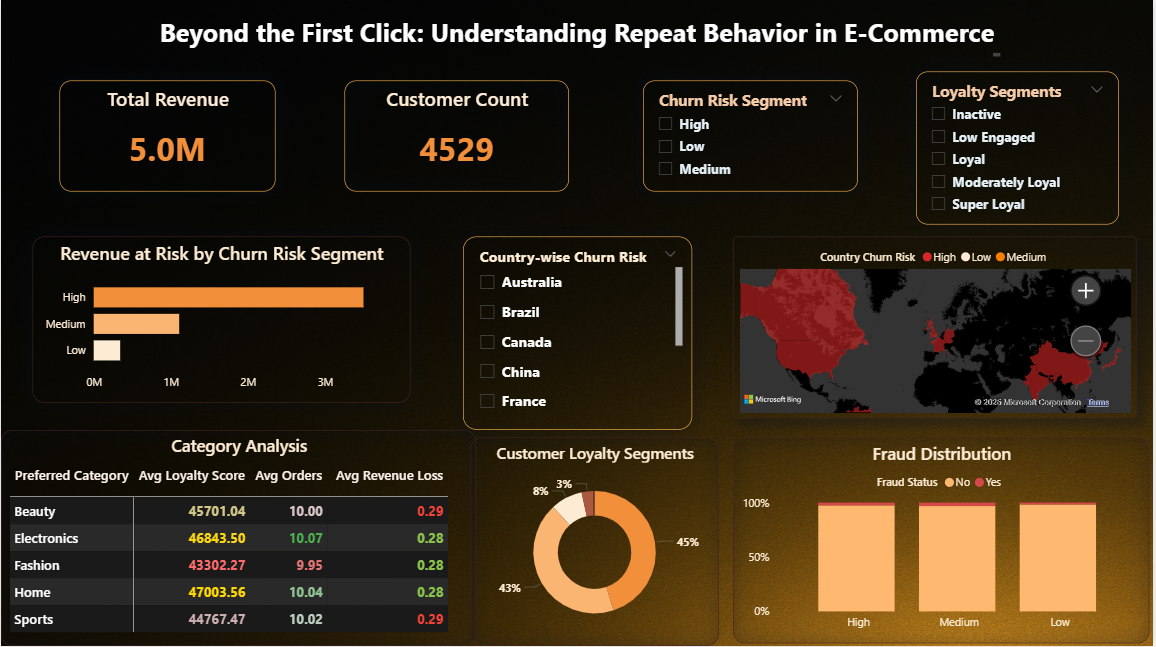

Layout of this report page (visuals, bound fields, positions):
{"tool":"powerbi","page":{"name":"Dashboard","canvas":[1280,720],"ordinal":0},"visuals":[{"type":"card","title":"Total Revenue","fields":{"Values":["Sum(crm.Total Revenue)"]},"box":[65,91.7,240,123.3],"z":0},{"type":"textbox","title":"Beyond the First Click: Understanding Repeat Behavior in E-Commerce","box":[165,18.3,950,51.7],"z":1000},{"type":"card","title":"Customer Count","fields":{"Values":["CountNonNull(crm.Customer Id)"]},"box":[382.4,91.7,249.2,123.2],"z":2000},{"type":"slicer","fields":{"Values":["crm.Churn Risk Segment"]},"box":[713.3,91.7,238.3,123.3],"z":3000},{"type":"slicer","fields":{"Values":["crm.Loyalty Segment"]},"box":[1016.7,81.7,225,170],"z":4000},{"type":"clusteredBarChart","title":"Revenue at Risk by Churn Risk Segment","fields":{"Category":["crm.Churn Risk Segment"],"Y":["Sum(crm.Total Revenue)"]},"box":[34.4,265,419.7,184.8],"z":5000},{"type":"donutChart","title":"Customer Loyalty Segments","fields":{"Y":["CountNonNull(crm.Customer Id)"],"Category":["crm.Loyalty Segment"]},"box":[521.4,488.6,275.7,231.4],"z":6000},{"type":"pivotTable","title":"Category Analysis","fields":{"Values":["Sum(crm.Avg Loyalty Score)","Avg(crm.Avg Orders)","Avg(crm.Avg Revenue Loss)"],"Rows":["crm.Preferred Category"]},"box":[0,480,528,240],"z":7000},{"type":"hundredPercentStackedColumnChart","title":"Fraud Distribution","fields":{"Category":["crm.Churn Risk Segment"],"Y":["CountNonNull(crm.Customer Id)"],"Series":["crm.Fraud Status"]},"box":[812.9,488.6,462.9,228.6],"z":8000},{"type":"filledMap","fields":{"Category":["crm.Country"],"Series":["crm.Churn Risk Segment"]},"box":[813.3,265,448.3,201.7],"z":10000},{"type":"slicer","fields":{"Values":["crm.Country"]},"box":[512.8,265,255,214.9],"z":11000}]}

Visuals, with their boxes in screenshot pixels (x1, y1, x2, y2), scaled from the page's 1280x720 canvas onto the 1156x647 screenshot:
"Total Revenue" card: locate(59, 82, 275, 193)
"Beyond the First Click: Understanding Repeat Behavior in E-Commerce" textbox: locate(149, 16, 1007, 63)
"Customer Count" card: locate(345, 82, 570, 193)
slicer - crm.Churn Risk Segment: locate(644, 82, 859, 193)
slicer - crm.Loyalty Segment: locate(918, 73, 1121, 226)
"Revenue at Risk by Churn Risk Segment" clusteredBarChart: locate(31, 238, 410, 404)
"Customer Loyalty Segments" donutChart: locate(471, 439, 720, 646)
"Category Analysis" pivotTable: locate(0, 431, 477, 646)
"Fraud Distribution" hundredPercentStackedColumnChart: locate(734, 439, 1152, 644)
filledMap - crm.Country x crm.Churn Risk Segment: locate(735, 238, 1139, 419)
slicer - crm.Country: locate(463, 238, 693, 431)
